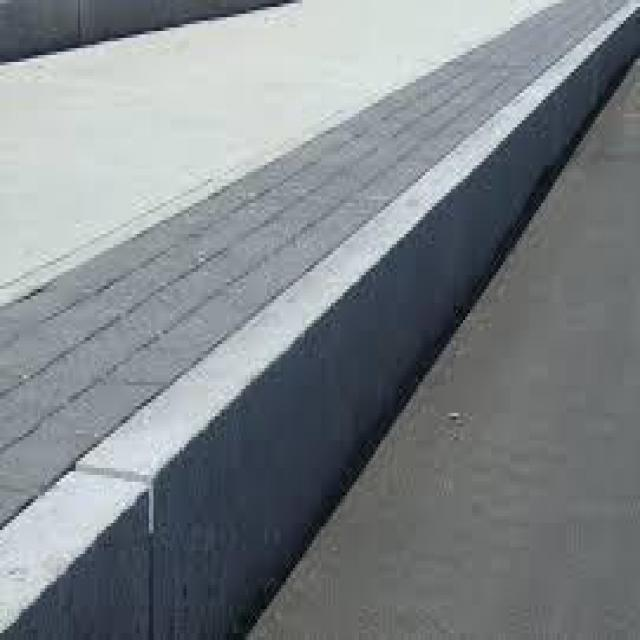curb: (78, 120, 516, 640)
